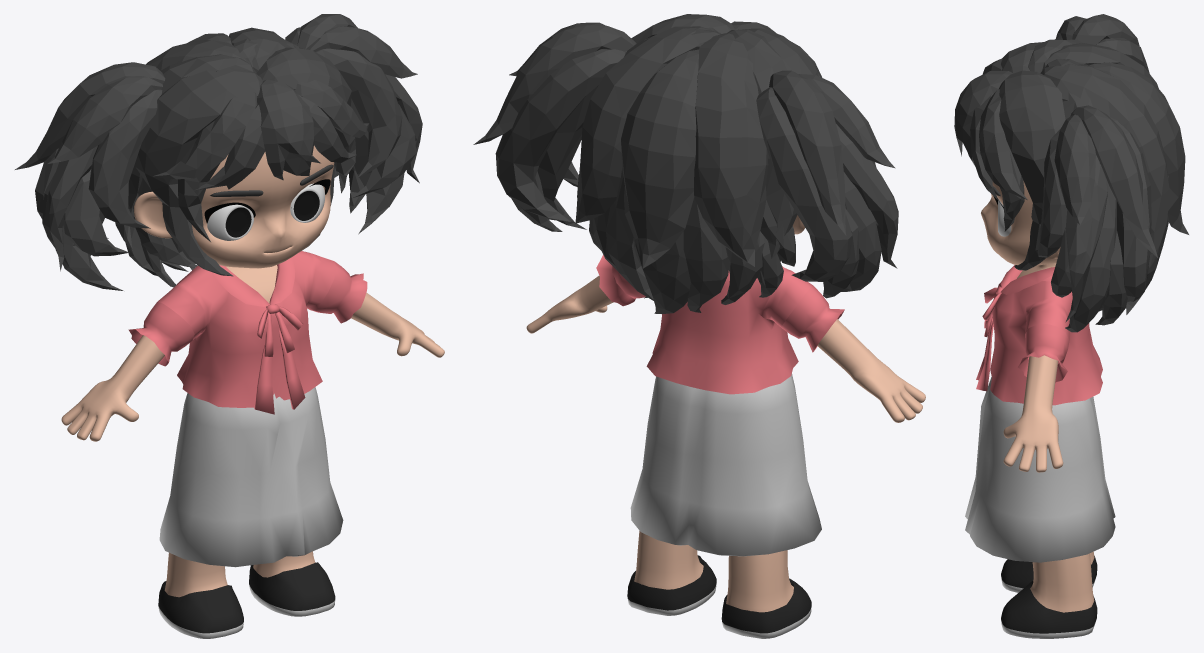
The model's file is NPC_2.fbx.
3 views of the same model, side by side, from view 1: azimuth 30°, elevation 25°; view 2: azimuth 150°, elevation 25°; view 3: azimuth 270°, elevation 25° (orthographic). The views are drawn at different scales.
Parts seen in each view (by area): view 1: Hair_4, Skirt, Blouse, Body, Head, Black Shoes, eyes_ball; view 2: Hair_4, Skirt, Blouse, Body, Black Shoes; view 3: Hair_4, Skirt, Blouse, Body, Black Shoes, Head.
Part boxes in pixels (<box>): Hair_4: <box>15,14,422,290</box>; Skirt: <box>159,387,343,567</box>; Blouse: <box>128,251,367,414</box>; Body: <box>61,265,444,597</box>; Head: <box>134,145,334,268</box>; Black Shoes: <box>158,562,335,638</box>; eyes_ball: <box>207,183,324,240</box>; Hair_4: <box>473,14,898,313</box>; Skirt: <box>630,373,821,556</box>; Blouse: <box>596,255,844,394</box>; Body: <box>526,276,925,612</box>; Black Shoes: <box>627,555,811,638</box>; Hair_4: <box>954,14,1188,332</box>; Skirt: <box>965,376,1115,562</box>; Blouse: <box>976,265,1102,405</box>; Body: <box>1003,263,1094,612</box>; Black Shoes: <box>1001,556,1097,638</box>; Head: <box>981,181,1060,265</box>.
Bounding box in the file's own units: 1073 × 1539 × 601.
